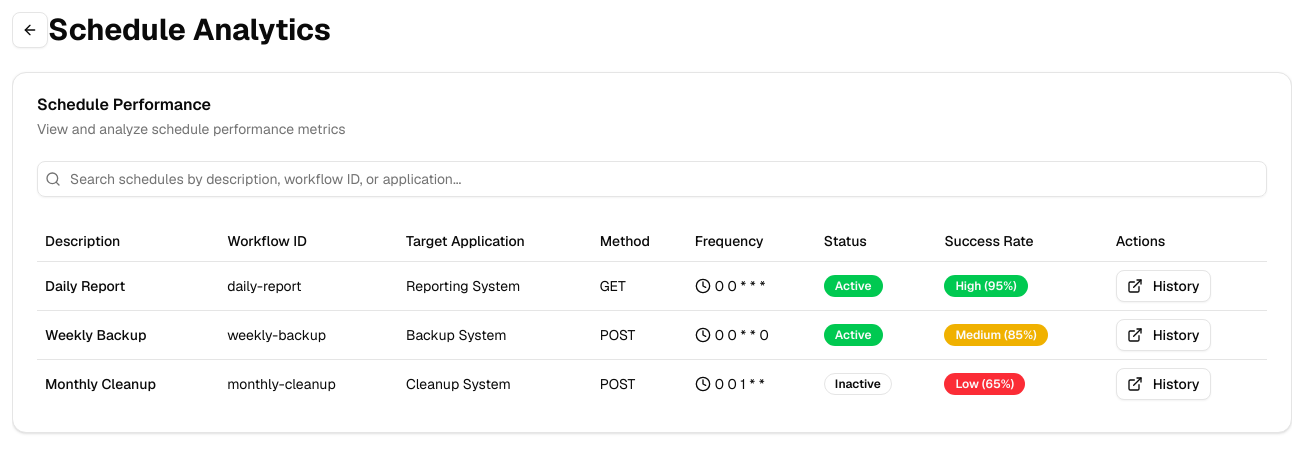
Test: AnalyticsPage › should filter schedules based on search term
Expected: the text "Daily Report" is shown, [37, 261, 219, 310]
Replace the text in the field with placeholder "Search schedules by description, workflow ID, or application..." with "backup" at [652, 179], box [37, 161, 1267, 197]
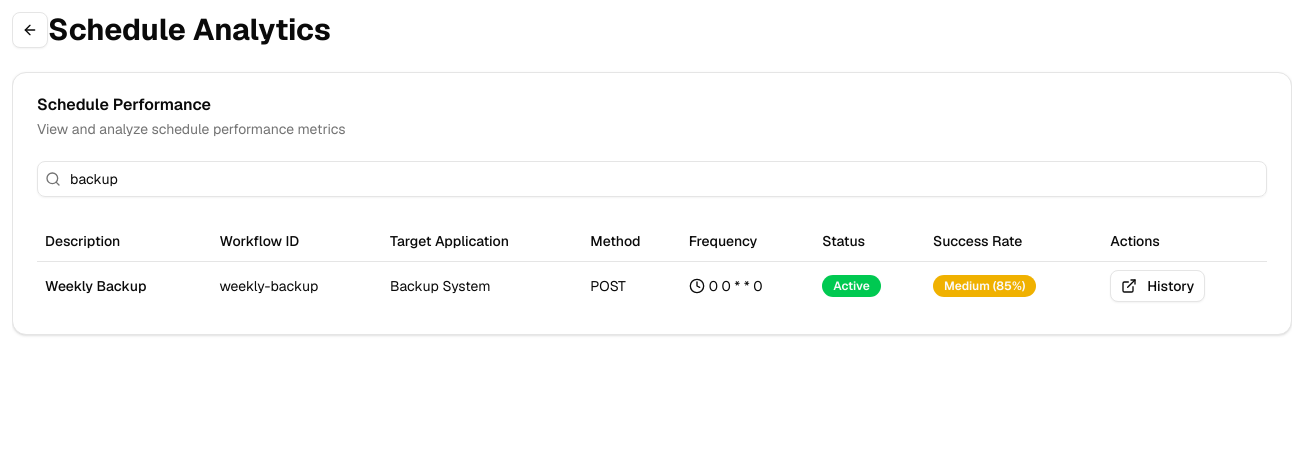
Expected: the text "Weekly Backup" is shown, [37, 261, 212, 310]
Expected: the text "Daily Report" is gone
Expected: the text "Monthly Cleanup" is gone
